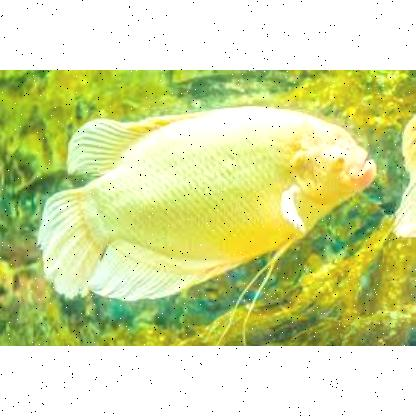gurame: (46, 108, 376, 280)
